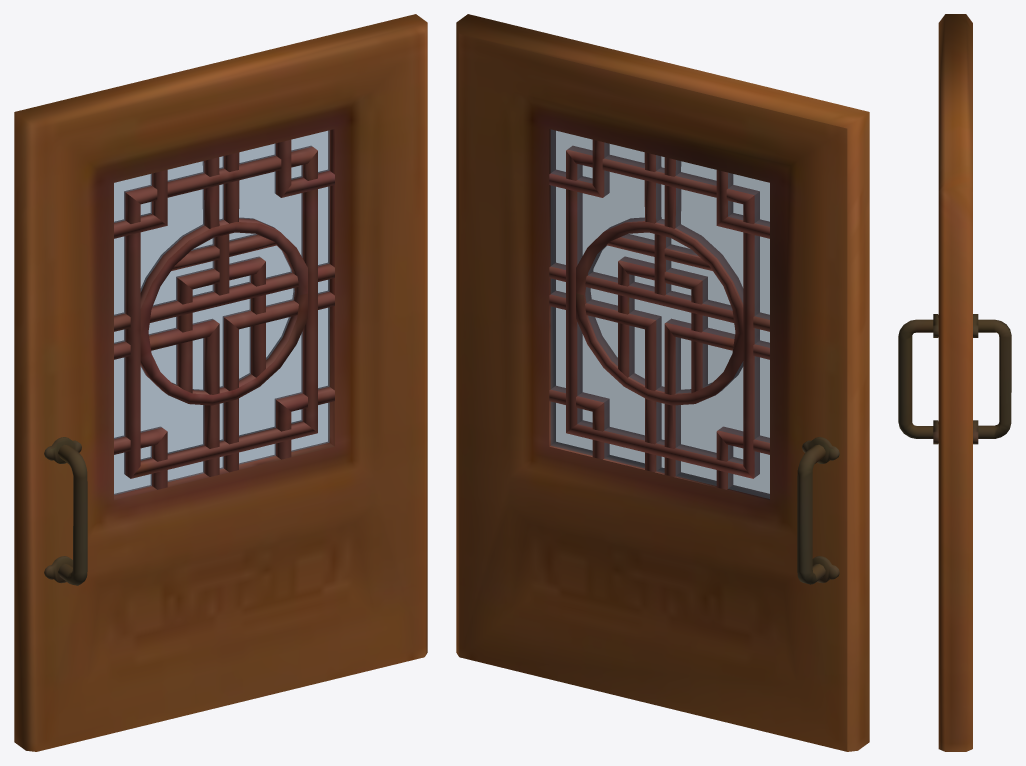
Rendered from door-chinese-s.glb.
3 renders of one model, left to right at view 1: azimuth 30°, elevation 25°; view 2: azimuth 150°, elevation 25°; view 3: azimuth 270°, elevation 25°, orthographic. The views are drawn at different scales.
Size of the model in its own units: 12 by 18 by 3.29.
Materials: 2 (1 with a texture image).
